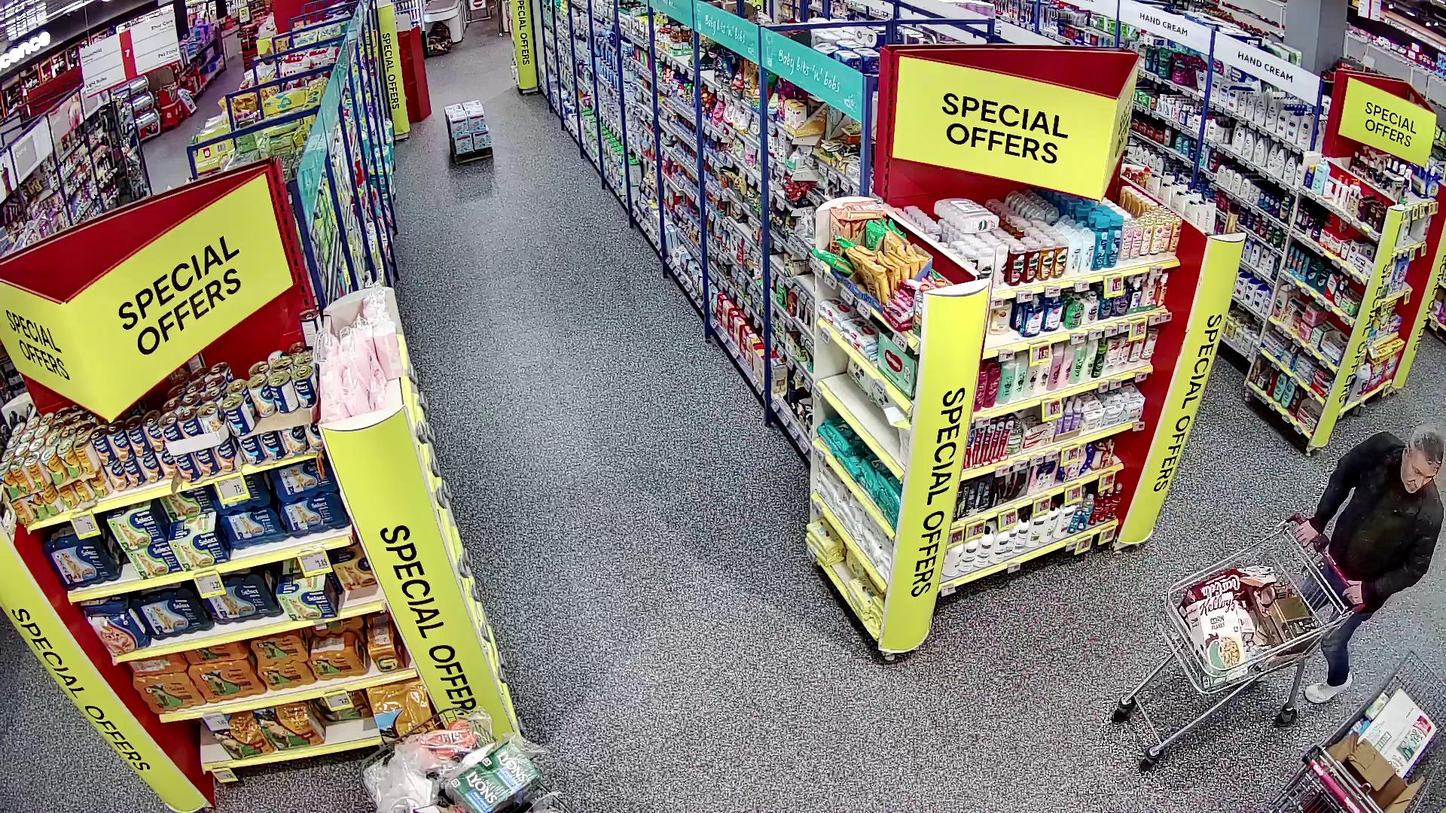filled-trolly: (1111, 510, 1365, 773)
person: (1295, 424, 1446, 704)
person-with-filled-basket-trolly: (1111, 424, 1446, 773)
